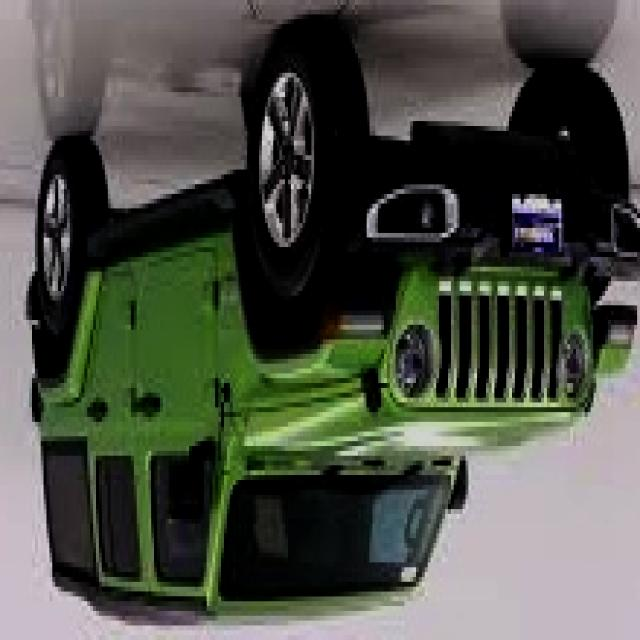green: (40, 23, 640, 618)
